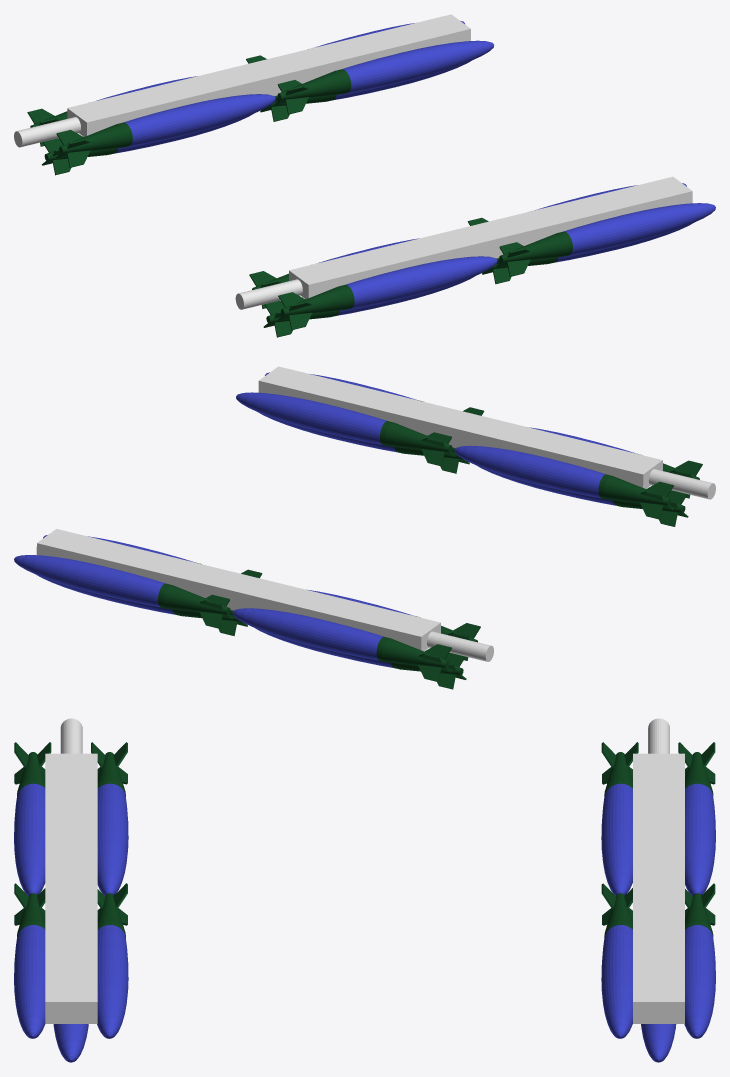
3 views of the same model, one above another, from view 1: azimuth 30°, elevation 25°; view 2: azimuth 150°, elevation 25°; view 3: azimuth 270°, elevation 25° (orthographic). The views are drawn at different scales.
Parts seen in each view (by area): view 1: 立方体.014, 立方体.010; view 2: 立方体.014, 立方体.010; view 3: 立方体.014, 立方体.010.
Part boxes in pixels (bbox=[...]): 立方体.014: bbox=[235, 176, 715, 337]; 立方体.010: bbox=[14, 14, 493, 175]; 立方体.014: bbox=[236, 366, 715, 526]; 立方体.010: bbox=[14, 529, 493, 689]; 立方体.014: bbox=[14, 718, 128, 1062]; 立方体.010: bbox=[601, 718, 715, 1062].
Bounding box in the file's own units: 6.37 × 0.6379 × 6.33.
Materials: 3 (1 with a texture image).
